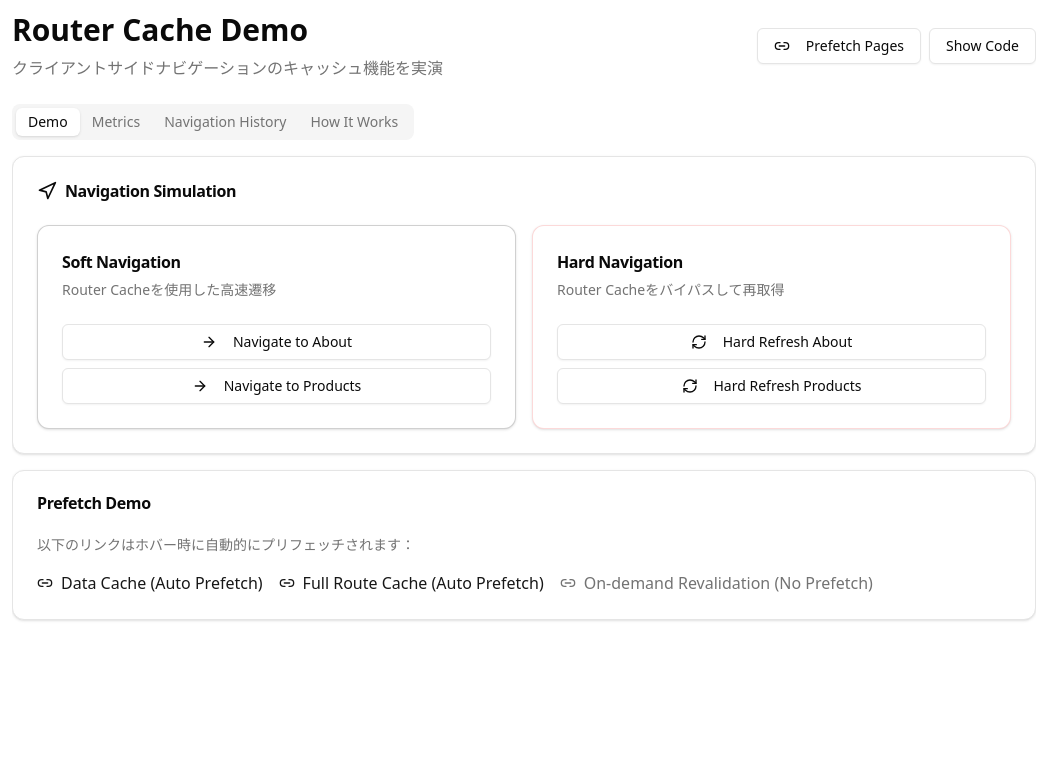
Scenario: RouterCachePresentational › Navigation simulation › should simulate soft navigation
Step 1. Click the button "Navigate to About" → point(276, 342), box [62, 324, 491, 360]
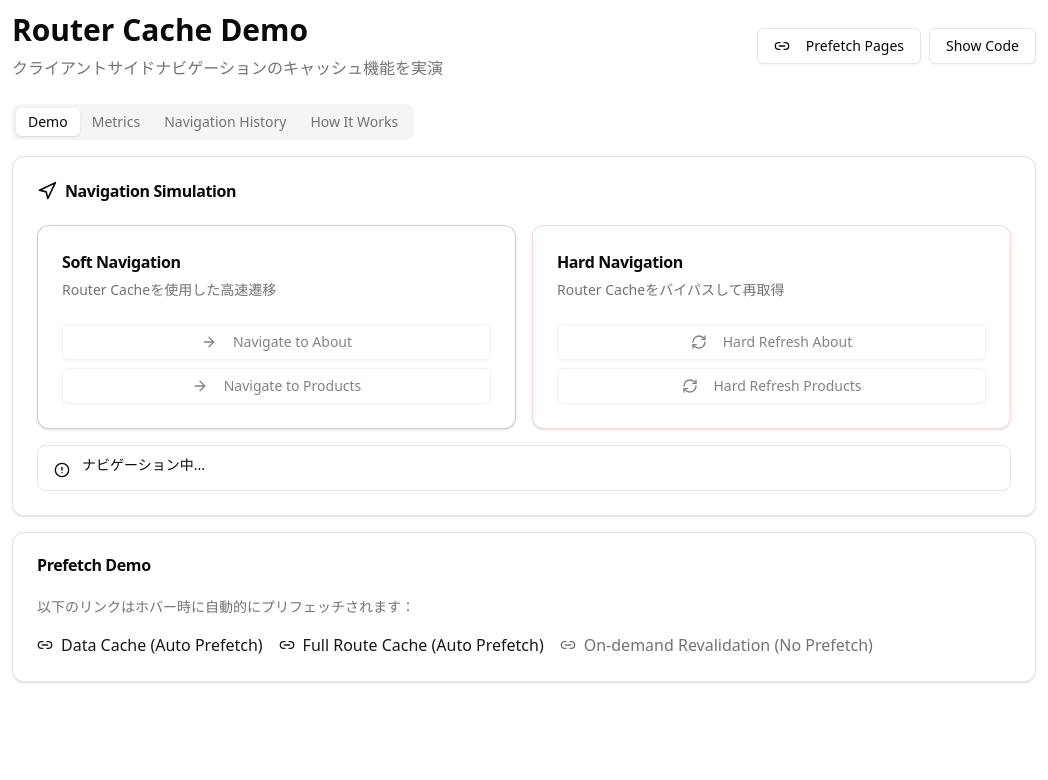
Expected: the text "ナビゲーション中..." is shown, [82, 455, 205, 474]
